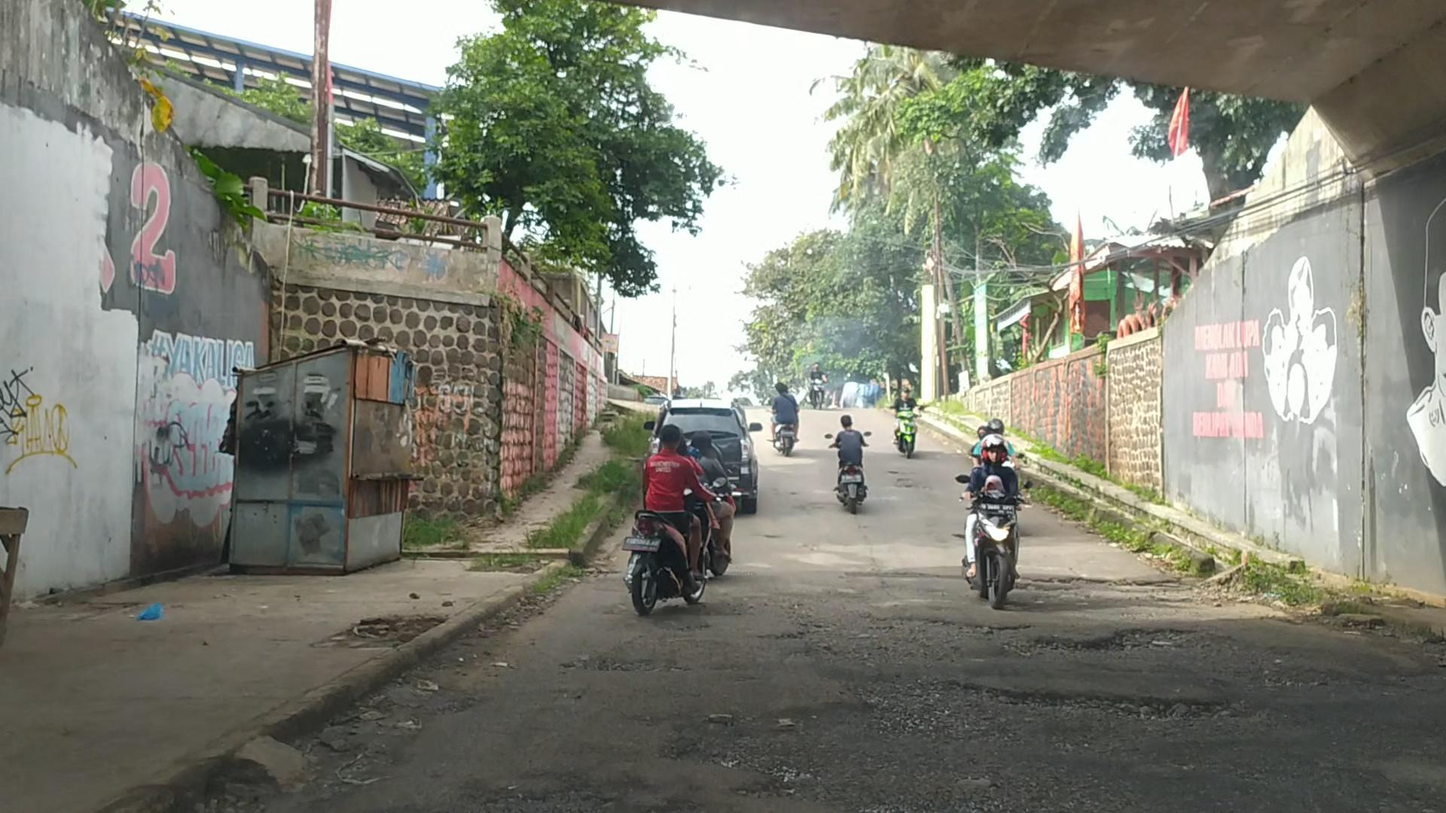pothole: (774, 617, 1027, 671), (956, 688, 1236, 727), (1048, 625, 1243, 667), (1018, 576, 1215, 605), (315, 610, 441, 651)
